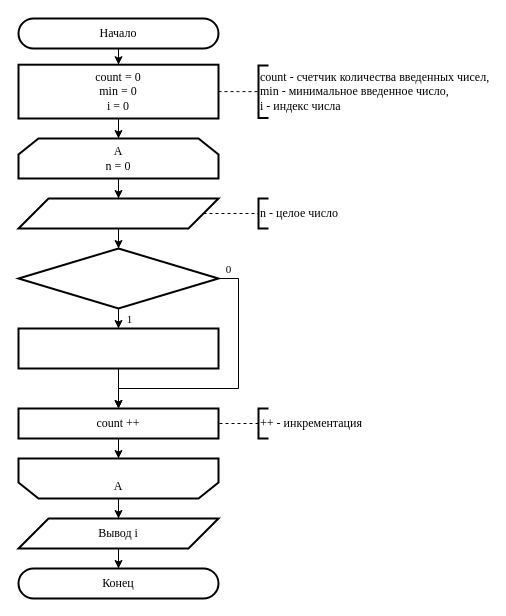
The diagram is 506 pixels wide and 616 high, and some of its shapes have lost their labels. The box of each missing label's shape, as (x1, y1, x2, y2) in pixels:
min = n i = count: (17, 327, 219, 369)
n < min: (17, 247, 219, 309)
Ввод n: (17, 197, 219, 229)
